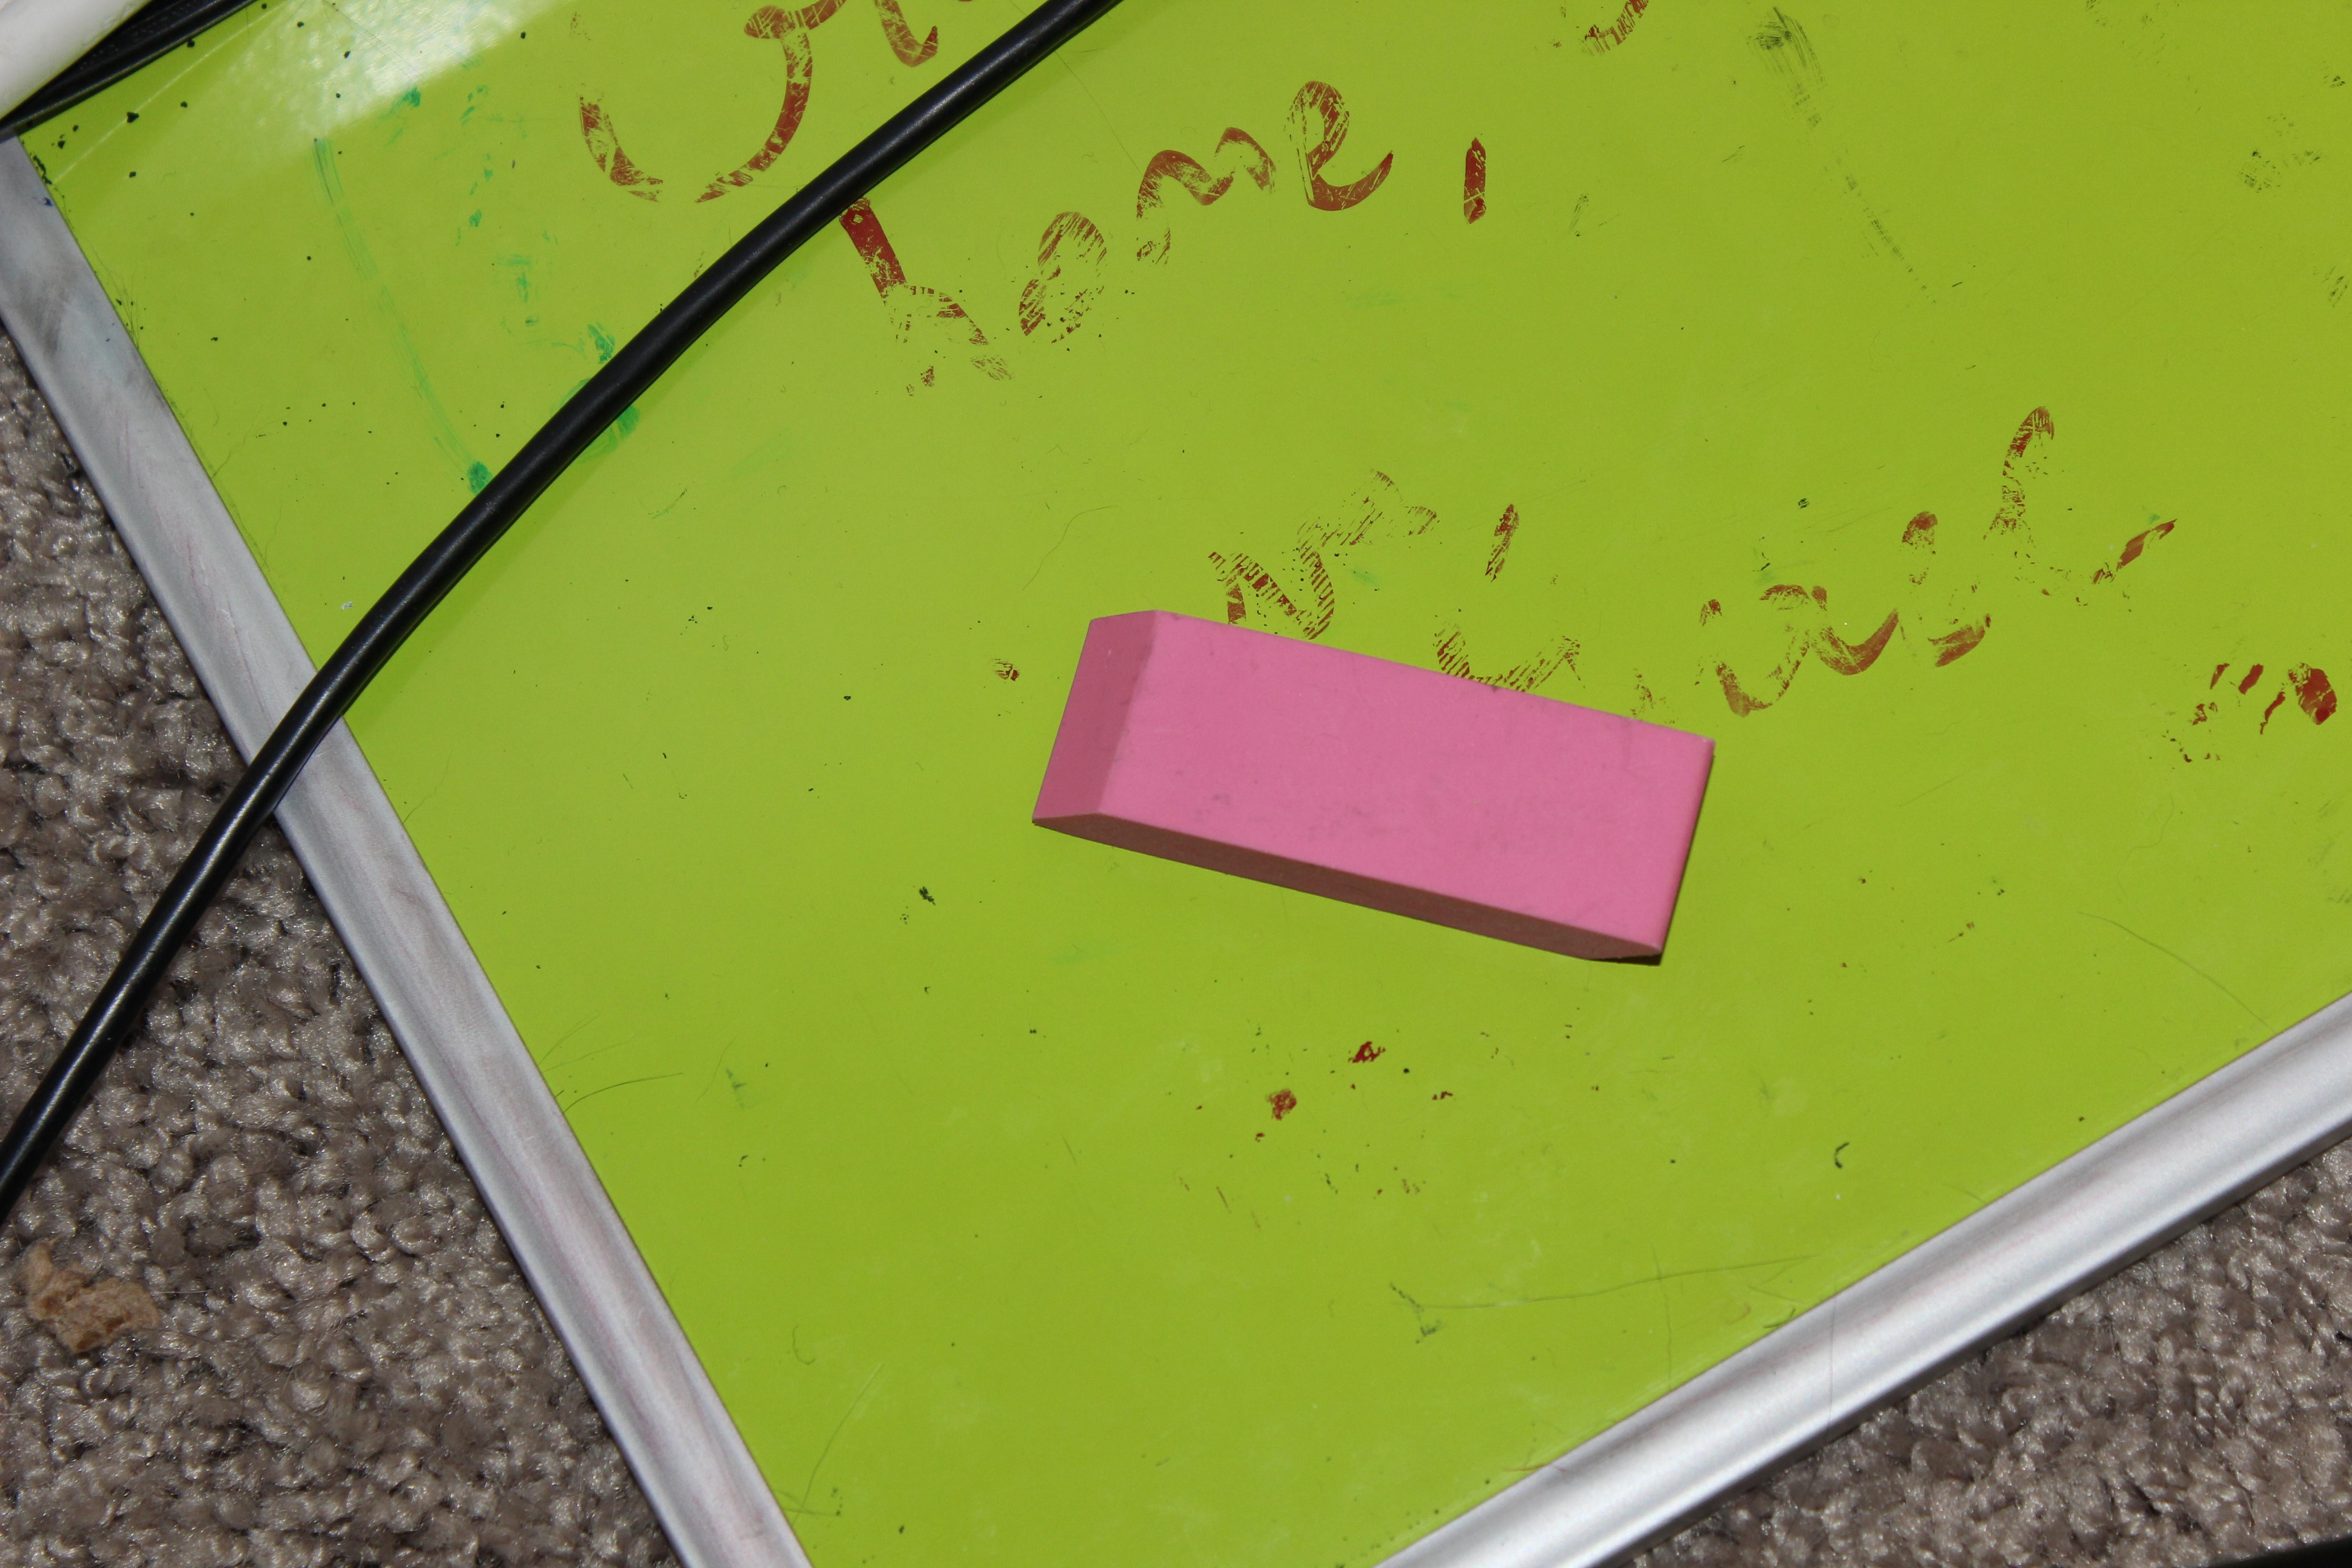pinkEraser: (1013, 581, 1741, 1006)
